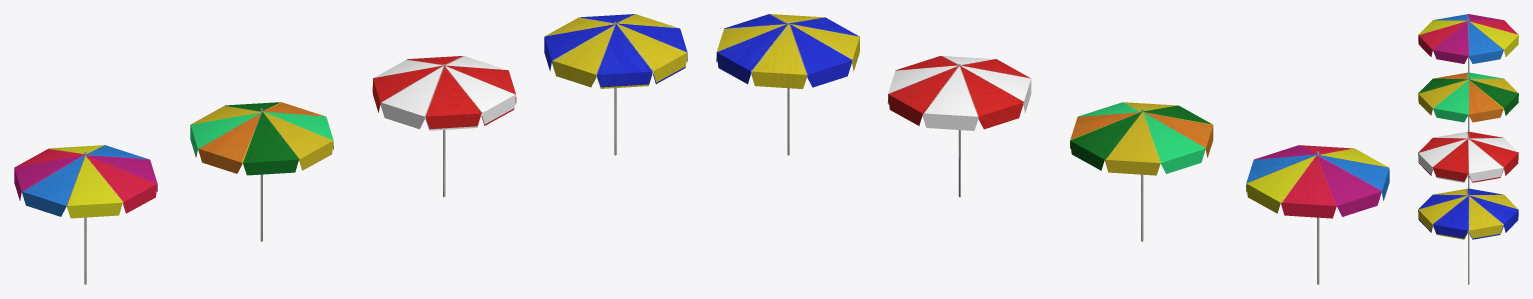
File: bar_prop_break_umbrella.fbx
The picture shows the model from 3 angles, left to right: view 1: azimuth 30°, elevation 25°; view 2: azimuth 150°, elevation 25°; view 3: azimuth 270°, elevation 25°; orthographic projection. The views are drawn at different scales.
Visible parts, largest first — view 1: sombrilla_bar_atlas_area09_DF_tga_LOD3, sombrilla_bar_atlas_area09_DF_tga_LOD2, sombrilla_bar_atlas_area09_DF_tga_LOD4, sombrilla_bar_atlas_area09_DF_tga_LOD1; view 2: sombrilla_bar_atlas_area09_DF_tga_LOD2, sombrilla_bar_atlas_area09_DF_tga_LOD3, sombrilla_bar_atlas_area09_DF_tga_LOD1, sombrilla_bar_atlas_area09_DF_tga_LOD4; view 3: sombrilla_bar_atlas_area09_DF_tga_LOD3, sombrilla_bar_atlas_area09_DF_tga_LOD2, sombrilla_bar_atlas_area09_DF_tga_LOD4, sombrilla_bar_atlas_area09_DF_tga_LOD1.
Part boxes in pixels (left/top/right/bottom): sombrilla_bar_atlas_area09_DF_tga_LOD3: left=544, top=14, right=687, bottom=155; sombrilla_bar_atlas_area09_DF_tga_LOD2: left=372, top=56, right=516, bottom=197; sombrilla_bar_atlas_area09_DF_tga_LOD4: left=14, top=145, right=157, bottom=284; sombrilla_bar_atlas_area09_DF_tga_LOD1: left=190, top=102, right=333, bottom=241; sombrilla_bar_atlas_area09_DF_tga_LOD2: left=887, top=56, right=1031, bottom=197; sombrilla_bar_atlas_area09_DF_tga_LOD3: left=716, top=14, right=859, bottom=155; sombrilla_bar_atlas_area09_DF_tga_LOD1: left=1070, top=102, right=1213, bottom=241; sombrilla_bar_atlas_area09_DF_tga_LOD4: left=1246, top=145, right=1389, bottom=284; sombrilla_bar_atlas_area09_DF_tga_LOD3: left=1418, top=188, right=1518, bottom=284; sombrilla_bar_atlas_area09_DF_tga_LOD2: left=1418, top=131, right=1518, bottom=188; sombrilla_bar_atlas_area09_DF_tga_LOD4: left=1418, top=14, right=1518, bottom=72; sombrilla_bar_atlas_area09_DF_tga_LOD1: left=1418, top=72, right=1518, bottom=131.
Bounding box in the file's own units: 22.57 × 4.34 × 4.41.
Materials: 1 (1 with a texture image).
